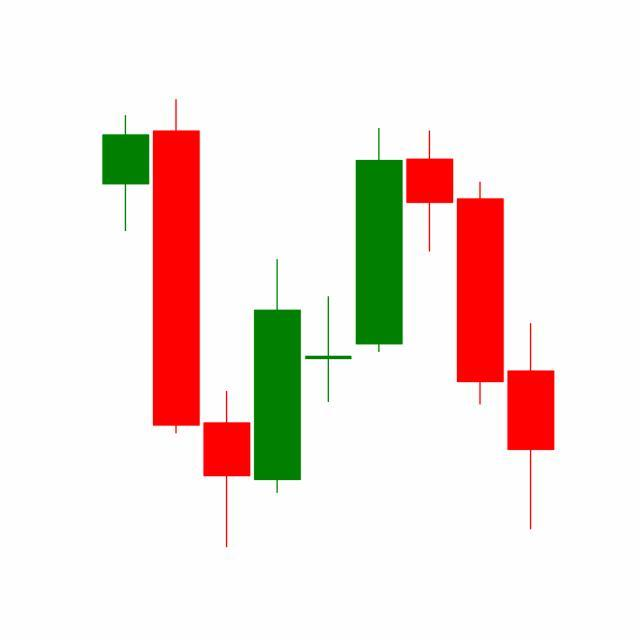Hikkake Pattern: (252, 125, 506, 499)
